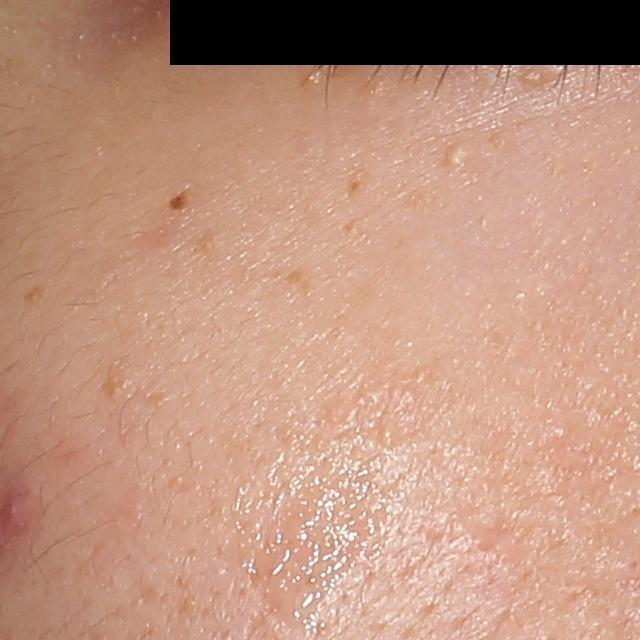melasma: (99, 361, 134, 400), (345, 164, 374, 199), (281, 268, 315, 295), (23, 284, 47, 305), (342, 217, 361, 237)
nevus: (167, 183, 192, 213)
other: (520, 61, 556, 88)
